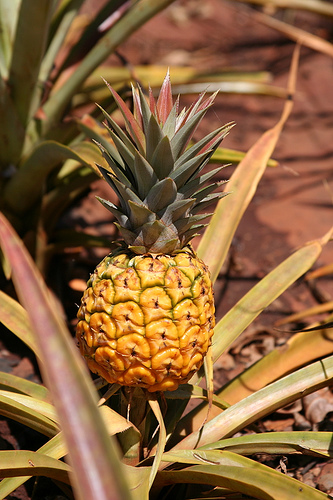pineapple: (75, 66, 234, 392)
